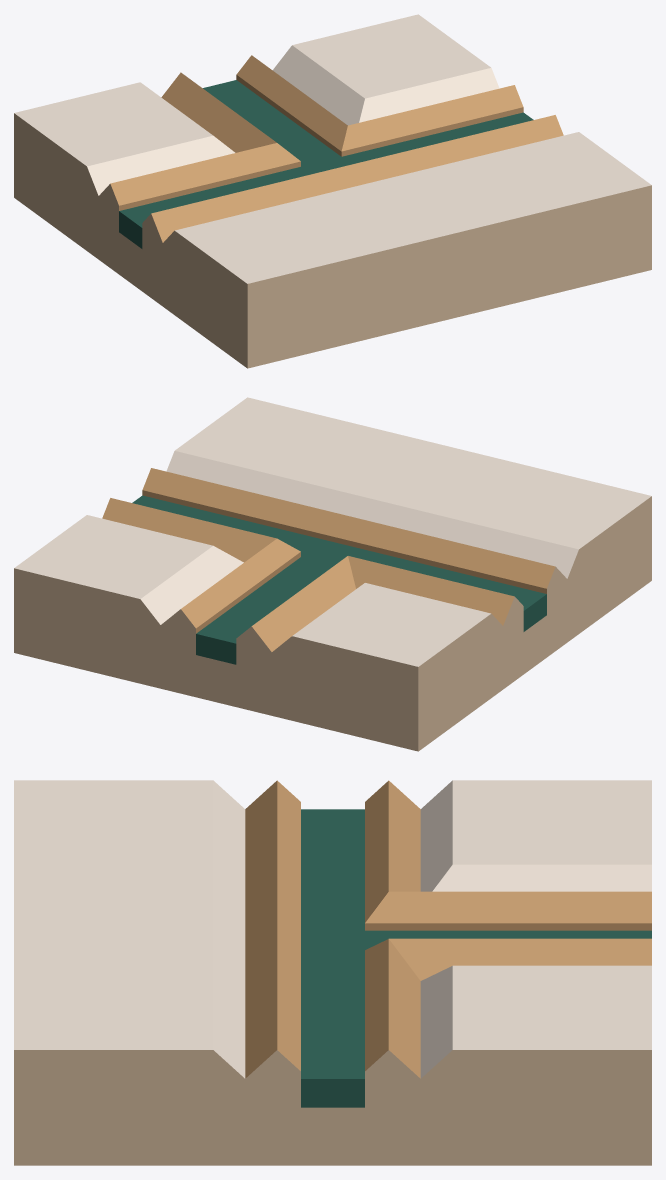
File: Puzzle_Floor_Conduit_Standard_TJoint.fbx
The picture shows the model from 3 angles, top to bottom: view 1: azimuth 30°, elevation 25°; view 2: azimuth 150°, elevation 25°; view 3: azimuth 270°, elevation 25°; orthographic projection. The views are drawn at different scales.
Visible parts, largest first — view 1: Sandstone_Floor.Sandstone_Floor.Sandstone_Floor.Sandstone_Fl, Sandstone_Trim.Sandstone_Trim.Sandstone_Trim.Sandstone_Trim, Sandstone_5.Sandstone_5.Sandstone_5.Sandstone_5.Sandstone_5., object1; view 2: Sandstone_Floor.Sandstone_Floor.Sandstone_Floor.Sandstone_Fl, Sandstone_Trim.Sandstone_Trim.Sandstone_Trim.Sandstone_Trim, Sandstone_5.Sandstone_5.Sandstone_5.Sandstone_5.Sandstone_5., object1; view 3: Sandstone_Floor.Sandstone_Floor.Sandstone_Floor.Sandstone_Fl, Sandstone_Trim.Sandstone_Trim.Sandstone_Trim.Sandstone_Trim, Sandstone_5.Sandstone_5.Sandstone_5.Sandstone_5.Sandstone_5., object1.
Part boxes in pixels (bbox=[...]): Sandstone_Floor.Sandstone_Floor.Sandstone_Floor.Sandstone_Fl: bbox=[14, 14, 651, 283]; Sandstone_Trim.Sandstone_Trim.Sandstone_Trim.Sandstone_Trim: bbox=[14, 113, 651, 368]; Sandstone_5.Sandstone_5.Sandstone_5.Sandstone_5.Sandstone_5.: bbox=[110, 55, 563, 242]; object1: bbox=[119, 80, 533, 248]; Sandstone_Floor.Sandstone_Floor.Sandstone_Floor.Sandstone_Fl: bbox=[14, 397, 651, 666]; Sandstone_Trim.Sandstone_Trim.Sandstone_Trim.Sandstone_Trim: bbox=[14, 496, 651, 751]; Sandstone_5.Sandstone_5.Sandstone_5.Sandstone_5.Sandstone_5.: bbox=[102, 468, 555, 651]; object1: bbox=[132, 495, 546, 664]; Sandstone_Floor.Sandstone_Floor.Sandstone_Floor.Sandstone_Fl: bbox=[14, 780, 651, 1078]; Sandstone_Trim.Sandstone_Trim.Sandstone_Trim.Sandstone_Trim: bbox=[14, 1050, 651, 1165]; Sandstone_5.Sandstone_5.Sandstone_5.Sandstone_5.Sandstone_5.: bbox=[245, 780, 651, 1078]; object1: bbox=[301, 809, 651, 1107].
Bounding box in the file's own units: 1 × 0.2 × 1.
